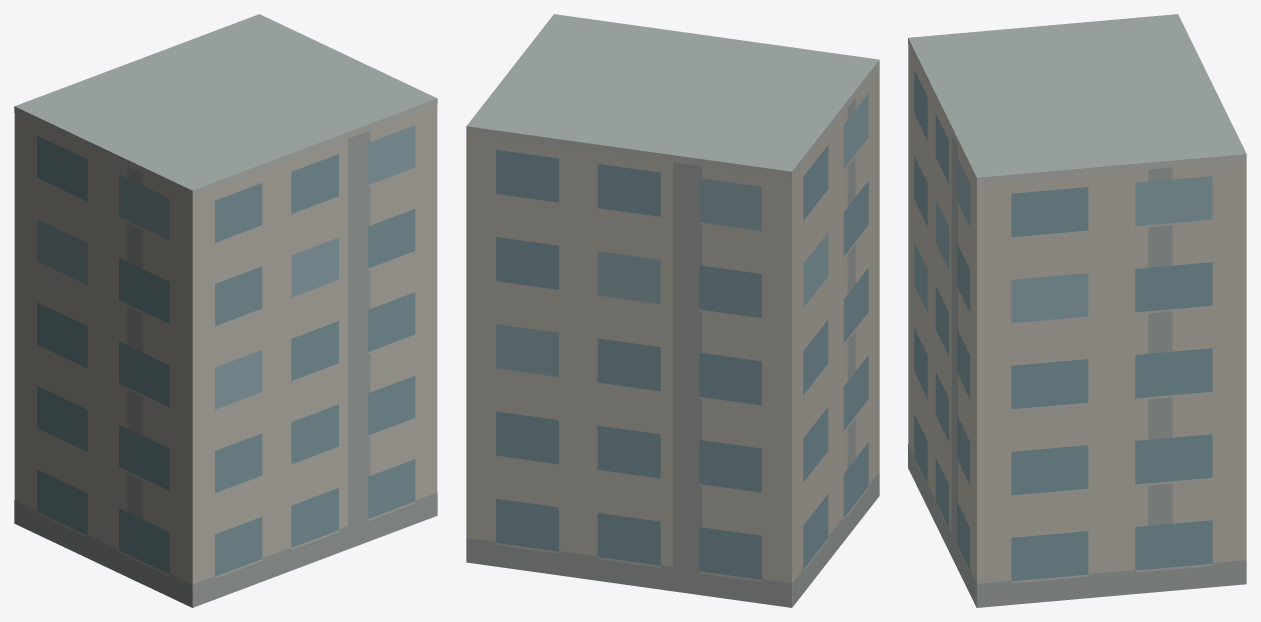
The model's file is residential-e51421aa-686f-46be-a706-2d770afd20c6.glb.
The picture shows the model from 3 angles, left to right: view 1: azimuth 30°, elevation 25°; view 2: azimuth 150°, elevation 25°; view 3: azimuth 270°, elevation 25°; orthographic projection. The views are drawn at different scales.
Parts seen in each view (by area): view 1: residential-e51421aa-686f-46be-a706-2d770afd20c6.tmp; view 2: residential-e51421aa-686f-46be-a706-2d770afd20c6.tmp; view 3: residential-e51421aa-686f-46be-a706-2d770afd20c6.tmp.
Part boxes in pixels (box(x1,y1,x2,y2)): residential-e51421aa-686f-46be-a706-2d770afd20c6.tmp: box(14, 14, 437, 607); residential-e51421aa-686f-46be-a706-2d770afd20c6.tmp: box(466, 14, 879, 607); residential-e51421aa-686f-46be-a706-2d770afd20c6.tmp: box(908, 14, 1246, 607).
Bounding box in the file's own units: 12.45 × 15.25 × 10.89.
